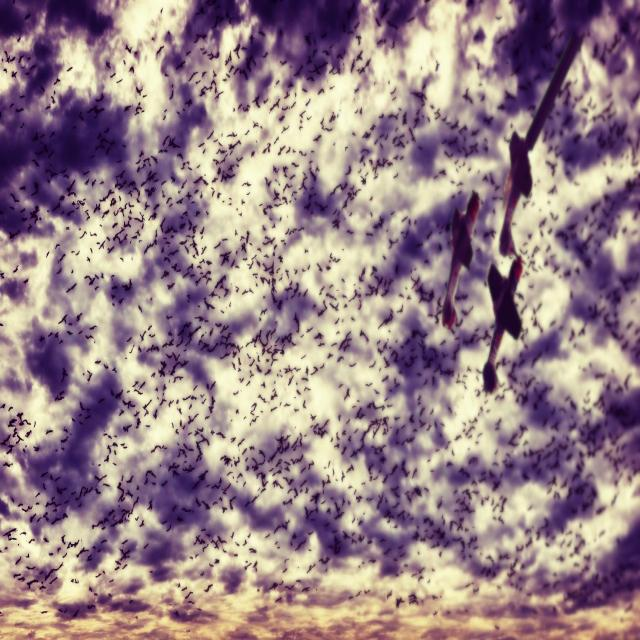airplane: (498, 37, 582, 253), (482, 255, 525, 392), (442, 191, 480, 329)
